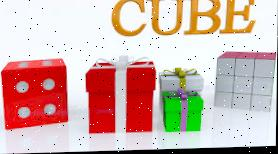cube: (87, 60, 154, 136), (0, 58, 69, 130), (216, 52, 275, 115), (163, 91, 203, 134)
